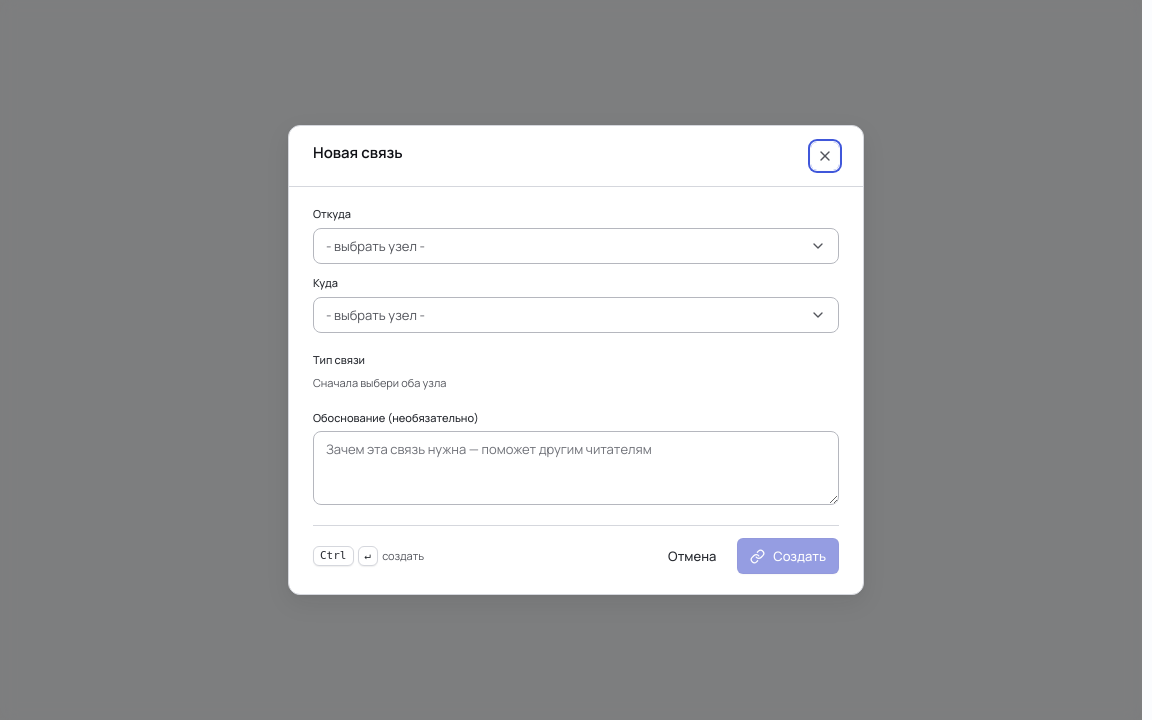
Test: AddEdgeModal › показывает 422 ошибку с detail
This screenshot has width=1152, height=720.
Click the button named "Откуда" at (375, 246), box [313, 228, 839, 264]
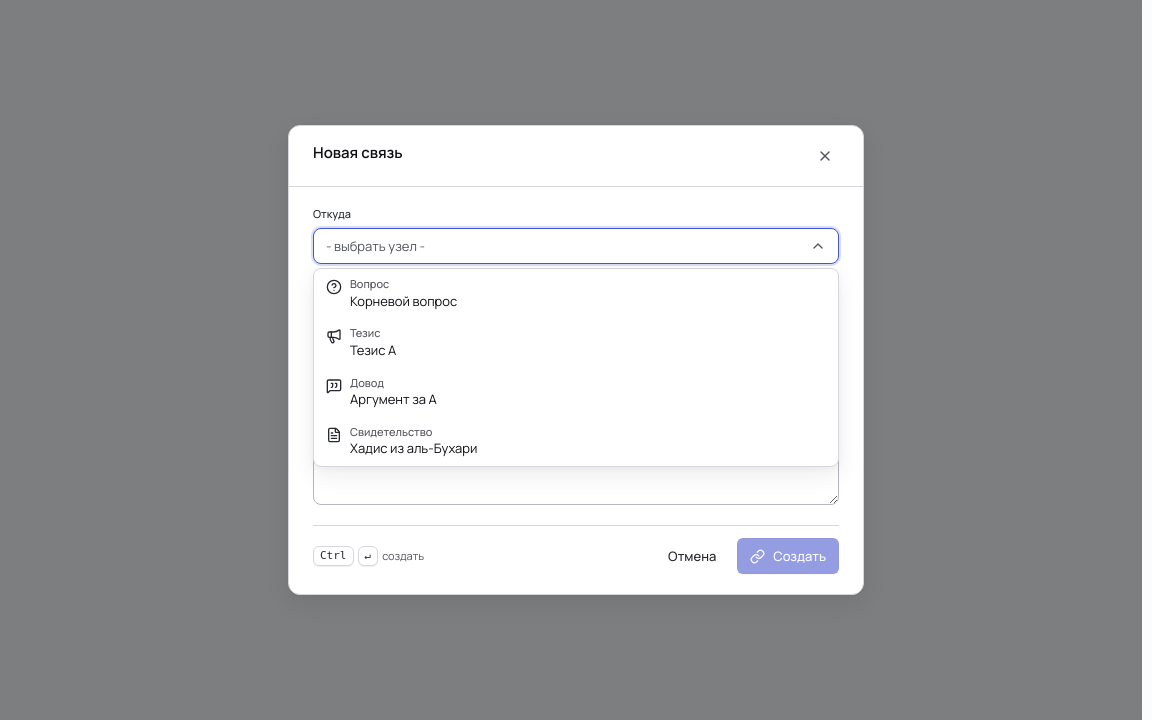
Click the text "Аргумент за А" at (393, 399), box [350, 390, 437, 408]
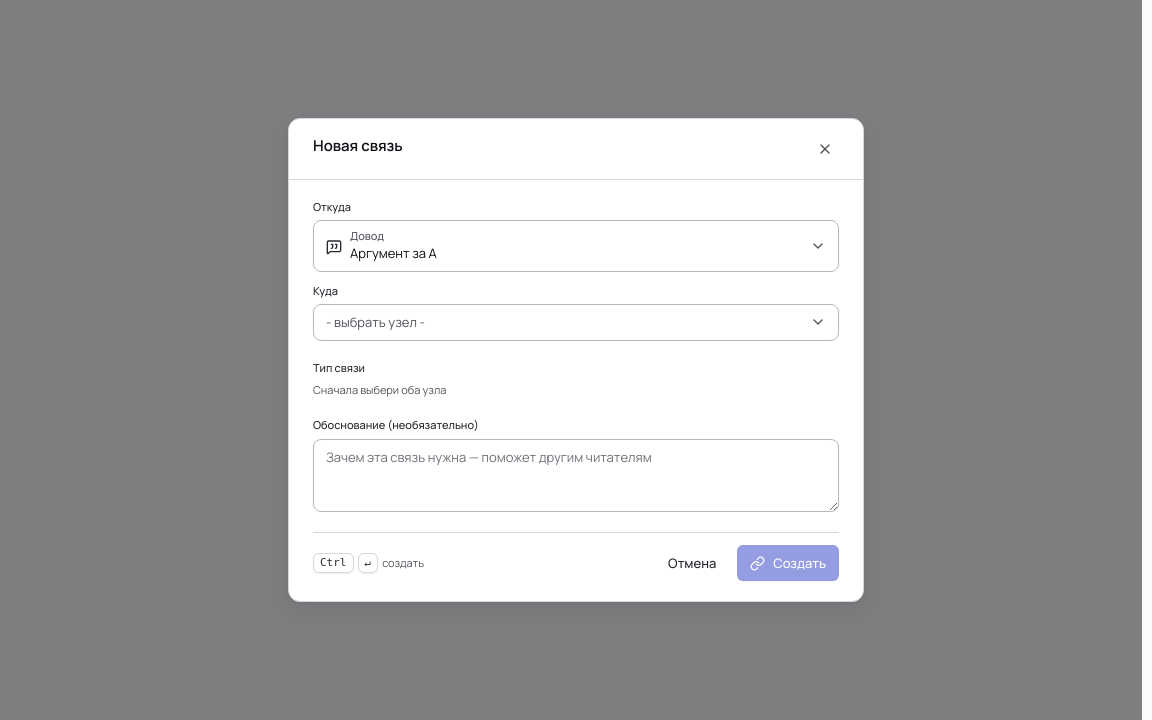
Click the button named "Куда" at (375, 322), box [313, 304, 839, 341]
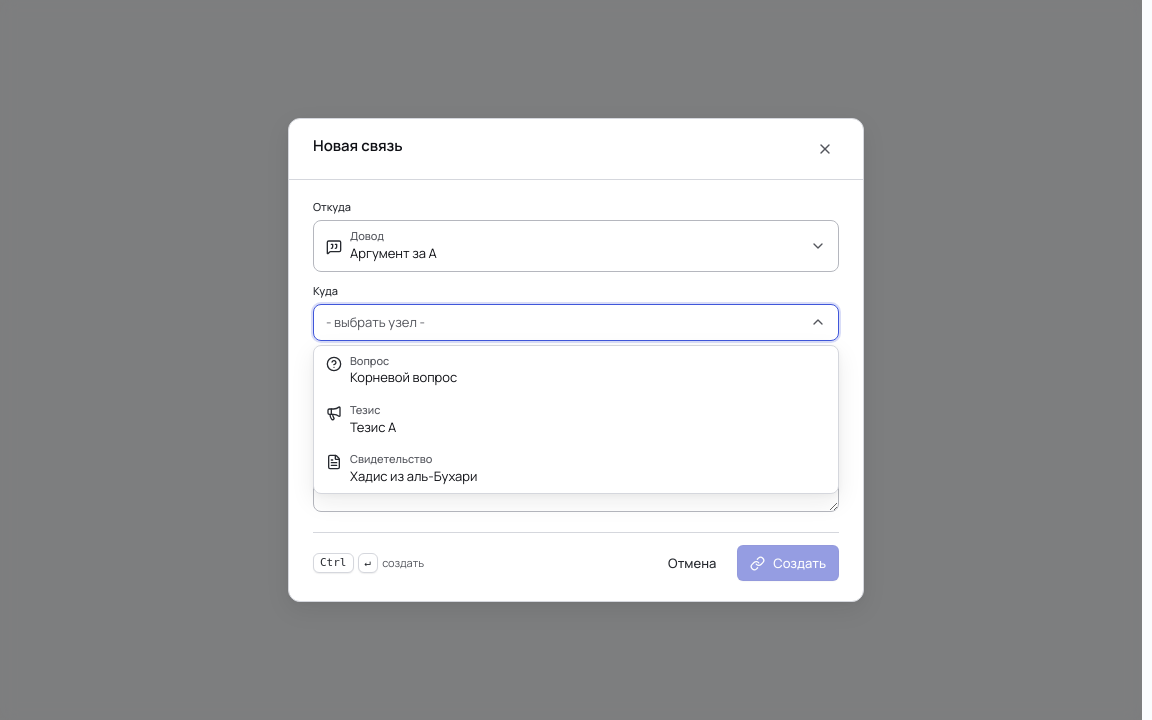
Click the text "Тезис А" at (373, 427), box [350, 418, 396, 436]
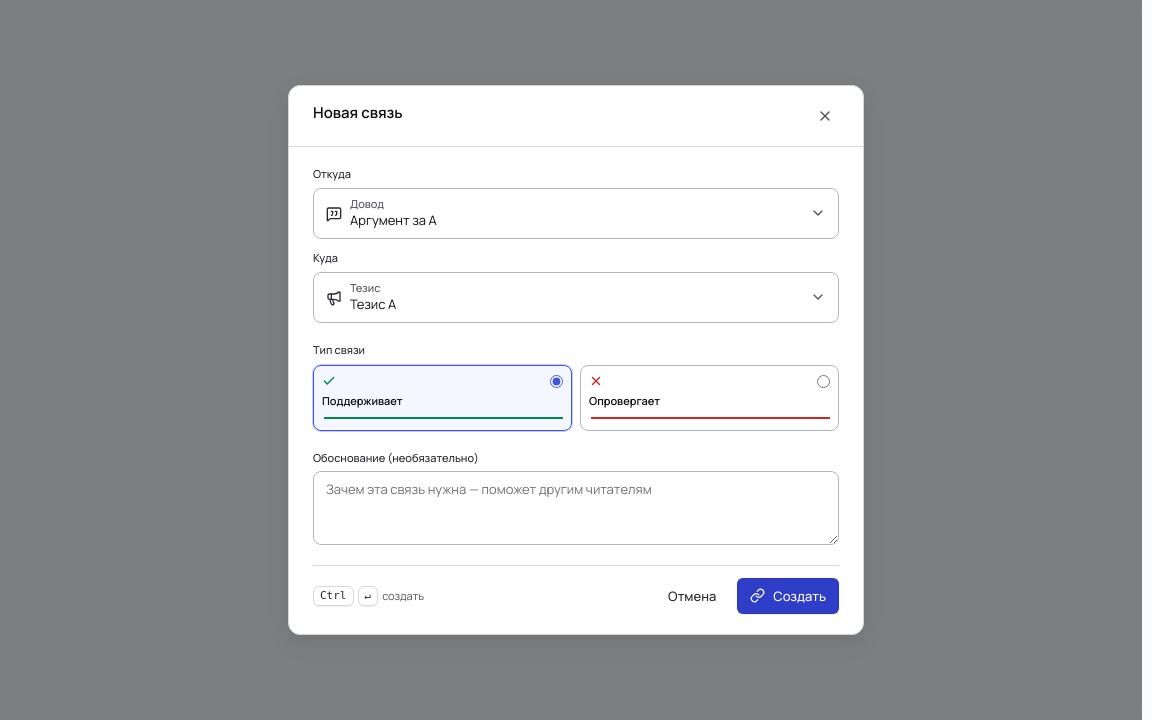
Click the button "Создать" at (788, 596), box [737, 578, 839, 614]
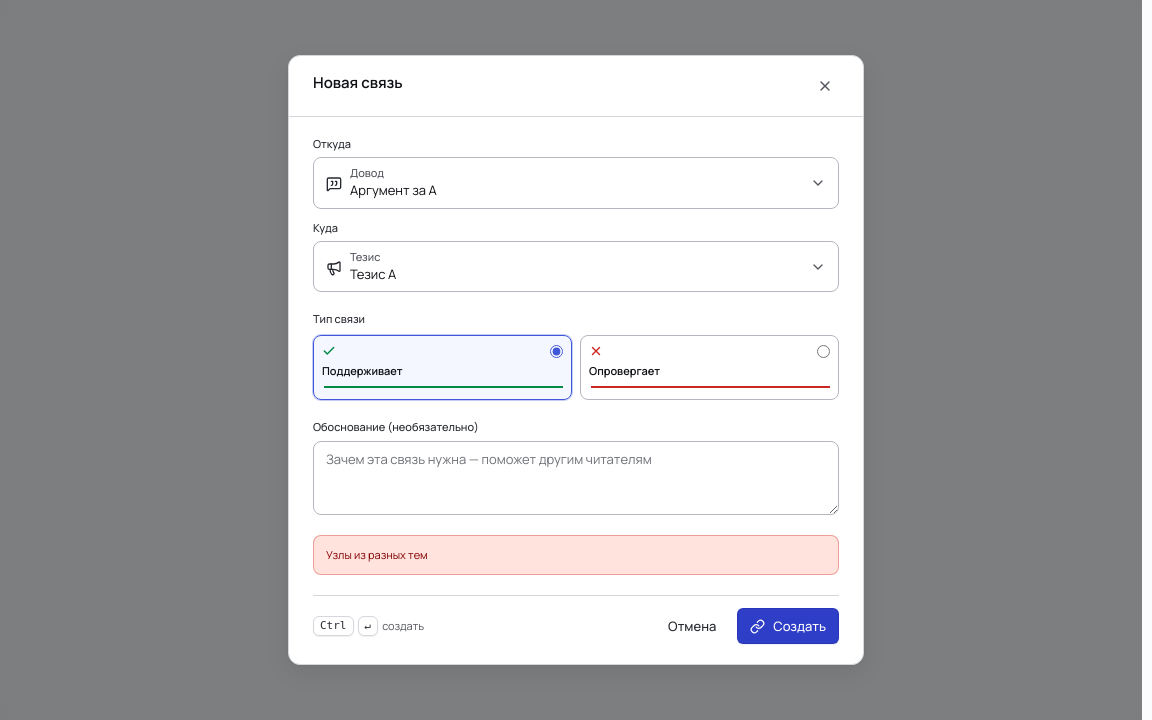
Result: the text "Узлы из разных тем" is shown at [313, 535, 839, 575]
